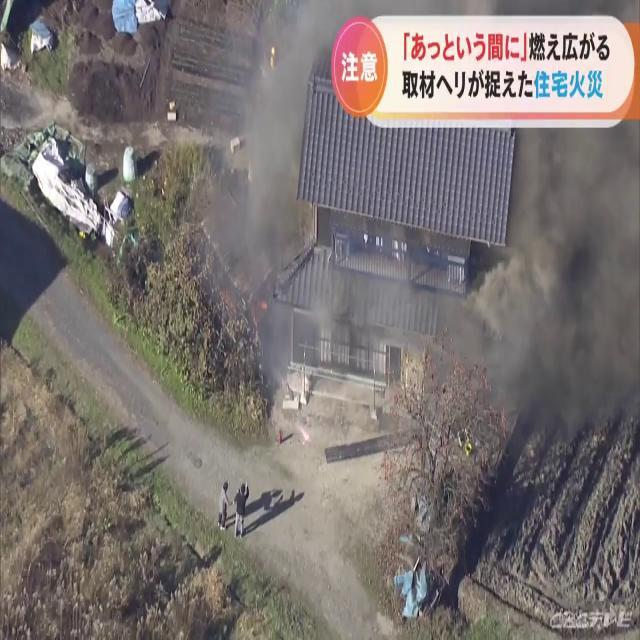Smoke: (474, 113, 640, 478), (196, 1, 320, 378)
